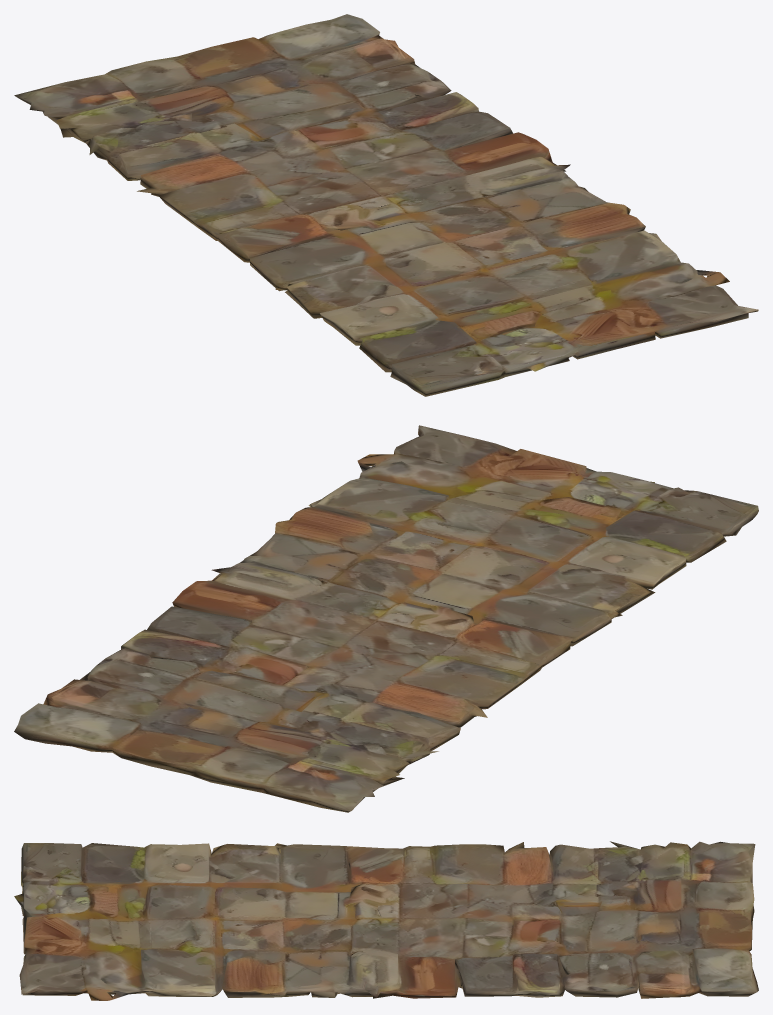
Rendered from tripo_flagstone_road_panel.glb.
3 views of the same model, one above another, from view 1: azimuth 30°, elevation 25°; view 2: azimuth 150°, elevation 25°; view 3: azimuth 270°, elevation 25° (orthographic). The views are drawn at different scales.
Parts seen in each view (by area): view 1: flagstone_road_panel; view 2: flagstone_road_panel; view 3: flagstone_road_panel.
Boxes of the visible parts, box(x1,y1,x2,y2) form: flagstone_road_panel: box(14, 14, 758, 396); flagstone_road_panel: box(14, 425, 758, 812); flagstone_road_panel: box(14, 841, 758, 1000).
Size of the model in its own units: 2 by 0.06 by 4.
1 material, 1 textured.
